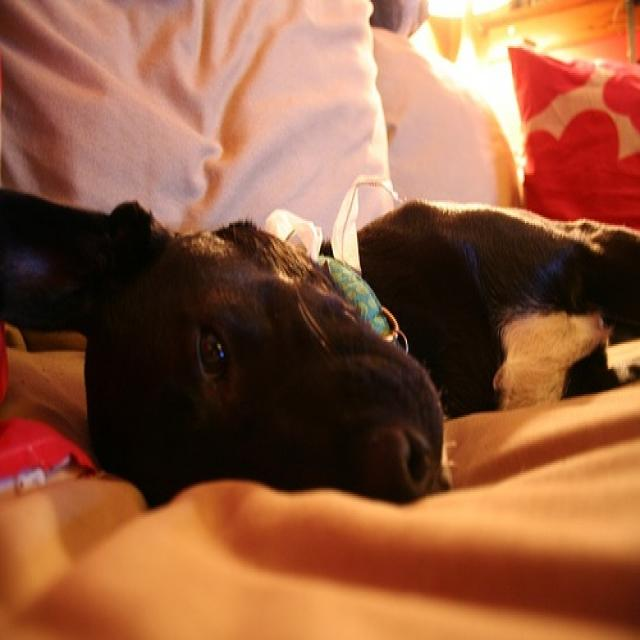dog: (79, 198, 639, 507)
